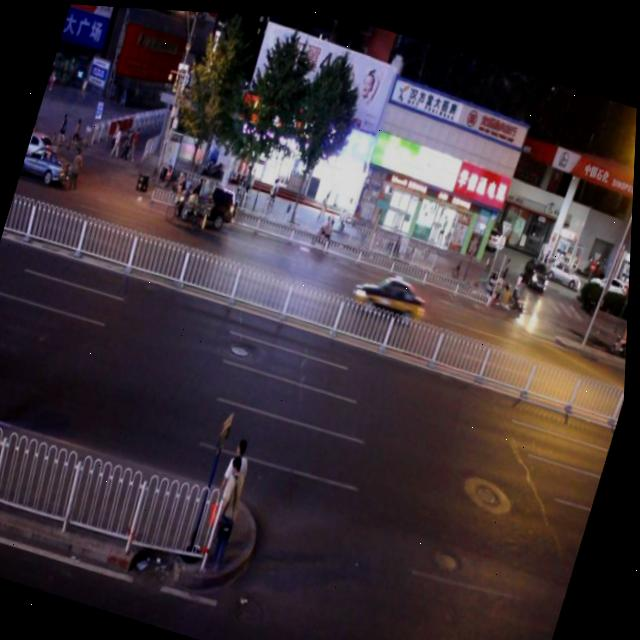car: (347, 257, 437, 327), (168, 167, 241, 233), (20, 139, 76, 190), (25, 125, 60, 170)
